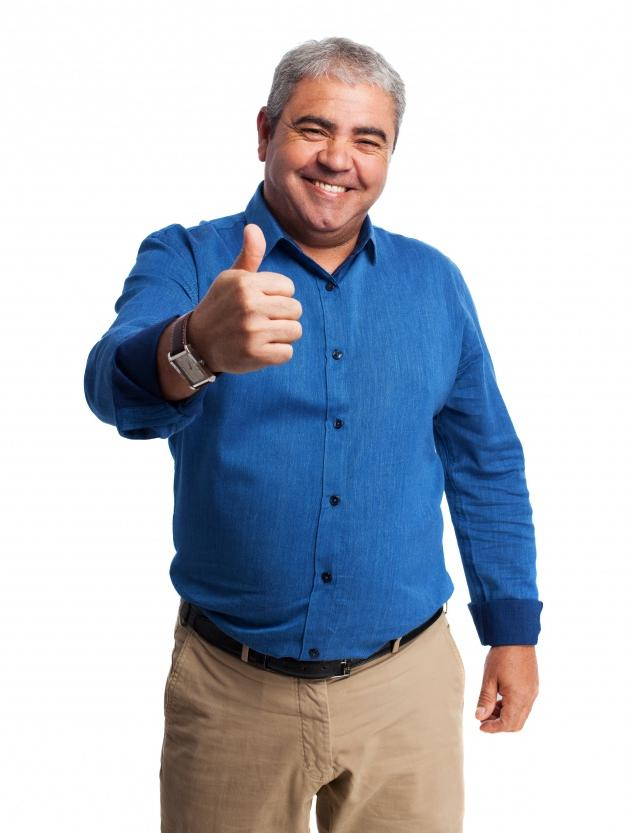thumbsup: (231, 222, 303, 368)
